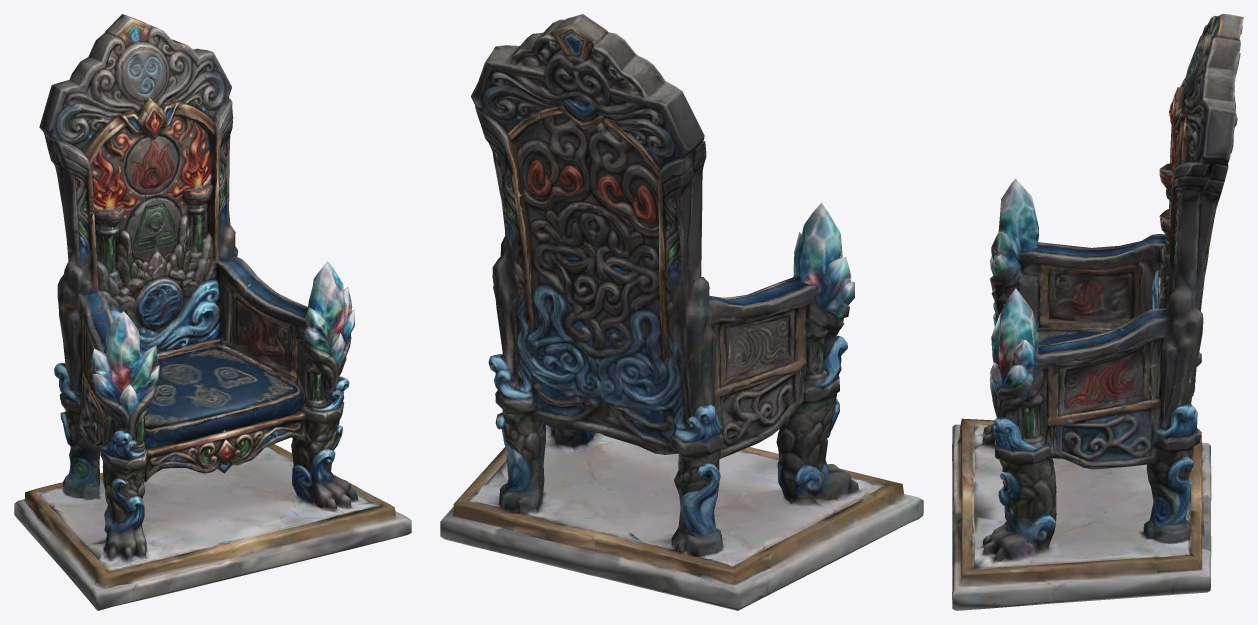
Rendered from chair.glb.
3 views of the same model, side by side, from view 1: azimuth 30°, elevation 25°; view 2: azimuth 150°, elevation 25°; view 3: azimuth 270°, elevation 25° (orthographic). The views are drawn at different scales.
Bounding box in the file's own units: 1.34 × 1.9 × 0.9779.
Materials: 1 (1 with a texture image).
